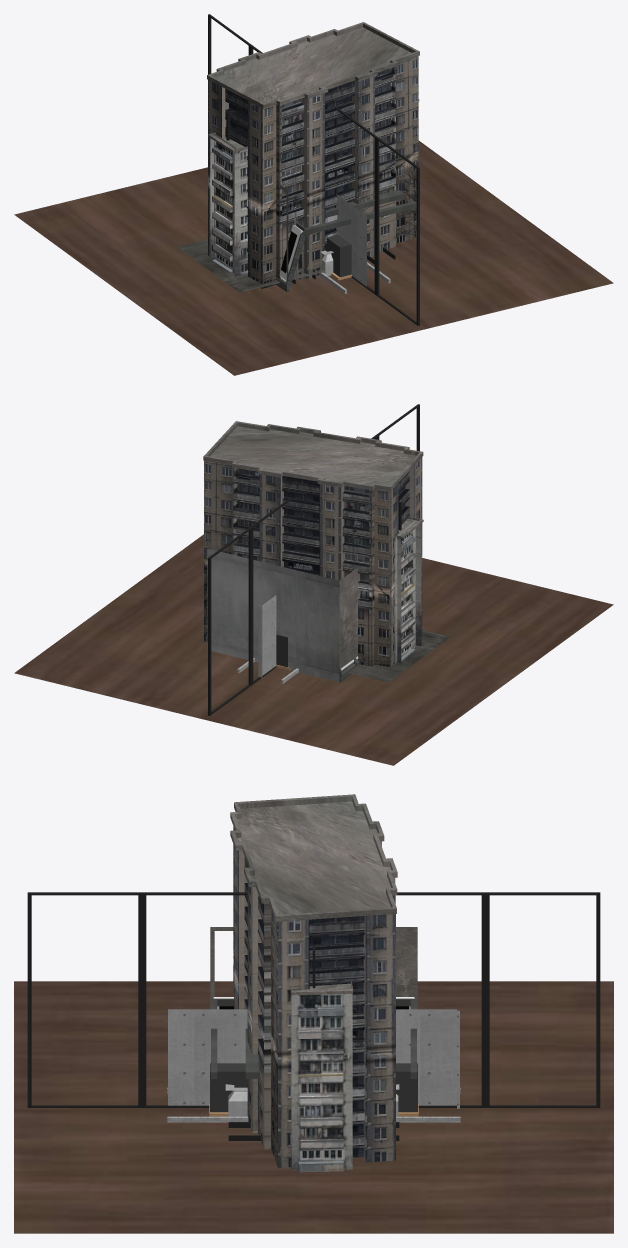
The model's file is novopo_extras.glb.
3 views of the same model, one above another, from view 1: azimuth 30°, elevation 25°; view 2: azimuth 150°, elevation 25°; view 3: azimuth 270°, elevation 25° (orthographic). The views are drawn at different scales.
Visible parts, largest first — view 1: arch_jp_floor, arch_l2_window, arch_l2_window_b, arch_jp_wall, arch_bed_structure, arch_i9_wall, arch_l13_plinth, arch_l6_beam; view 2: arch_jp_floor, arch_l2_window, arch_mini_shell, arch_l2_window_b, arch_jp_wall, arch_l13_plinth, arch_i9_wall; view 3: arch_jp_floor, arch_l2_window, arch_l2_window_b, arch_i9_wall, arch_jp_wall, arch_l6_beam, arch_mini_shell, arch_bed_structure, arch_i9_floor, arch_i9_windows.
Boxes of the visible parts, x1=… form: arch_jp_floor: x1=14, y1=140, x2=613, y2=375; arch_l2_window: x1=207, y1=22, x2=419, y2=289; arch_l2_window_b: x1=208, y1=99, x2=419, y2=276; arch_jp_wall: x1=208, y1=14, x2=419, y2=325; arch_bed_structure: x1=276, y1=190, x2=416, y2=292; arch_i9_wall: x1=336, y1=194, x2=366, y2=286; arch_l13_plinth: x1=177, y1=239, x2=324, y2=292; arch_l6_beam: x1=325, y1=234, x2=351, y2=277; arch_jp_floor: x1=14, y1=534, x2=613, y2=765; arch_l2_window: x1=203, y1=421, x2=423, y2=666; arch_mini_shell: x1=207, y1=549, x2=359, y2=682; arch_l2_window_b: x1=390, y1=516, x2=423, y2=663; arch_jp_wall: x1=208, y1=404, x2=419, y2=715; arch_l13_plinth: x1=348, y1=630, x2=450, y2=682; arch_i9_wall: x1=258, y1=595, x2=276, y2=678; arch_jp_floor: x1=14, y1=981, x2=613, y2=1233; arch_l2_window: x1=230, y1=794, x2=397, y2=1168; arch_l2_window_b: x1=290, y1=981, x2=352, y2=1172; arch_i9_wall: x1=168, y1=1009, x2=459, y2=1108; arch_jp_wall: x1=27, y1=892, x2=600, y2=1107; arch_l6_beam: x1=210, y1=1063, x2=417, y2=1112; arch_mini_shell: x1=210, y1=927, x2=417, y2=1009; arch_bed_structure: x1=211, y1=997, x2=416, y2=1078; arch_i9_floor: x1=167, y1=1087, x2=460, y2=1122; arch_i9_windows: x1=225, y1=1084, x2=399, y2=1116.
Bounding box in the file's own units: 16.44 × 7.66 × 16.53.
Materials: 33 (25 with a texture image).
